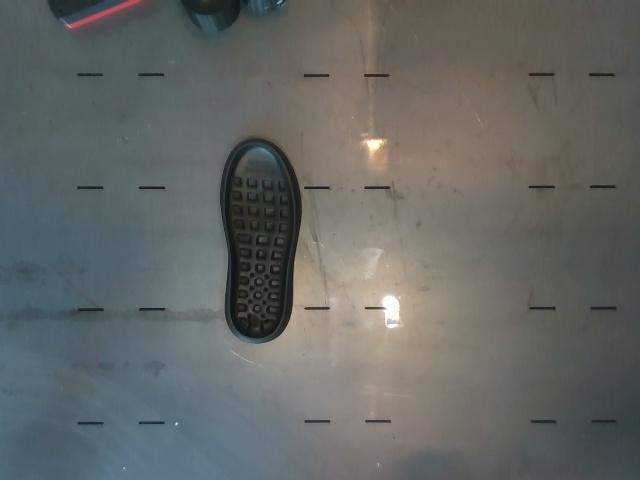shoes: (224, 143, 295, 338)
